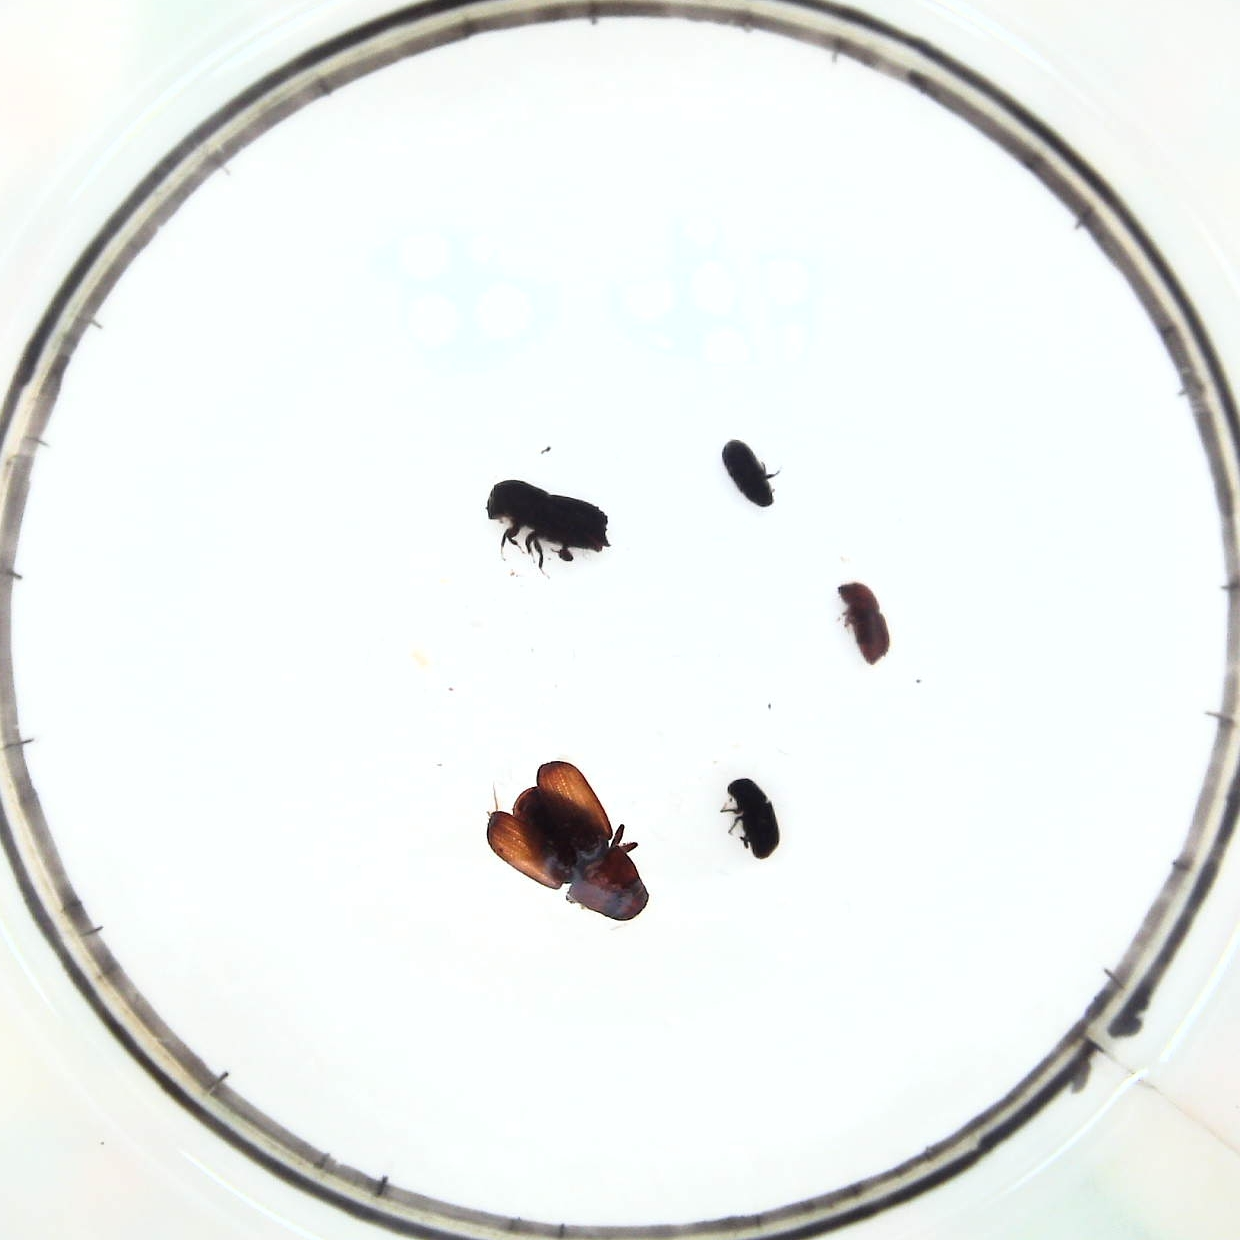Boerner: (483, 477, 608, 569)
Leconte: (486, 760, 650, 924)
Linnaeus: (838, 581, 895, 663)
armandi: (729, 774, 781, 862)
coleoptera: (720, 435, 774, 511)
